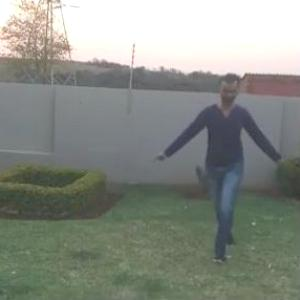land: (174, 74, 280, 230)
